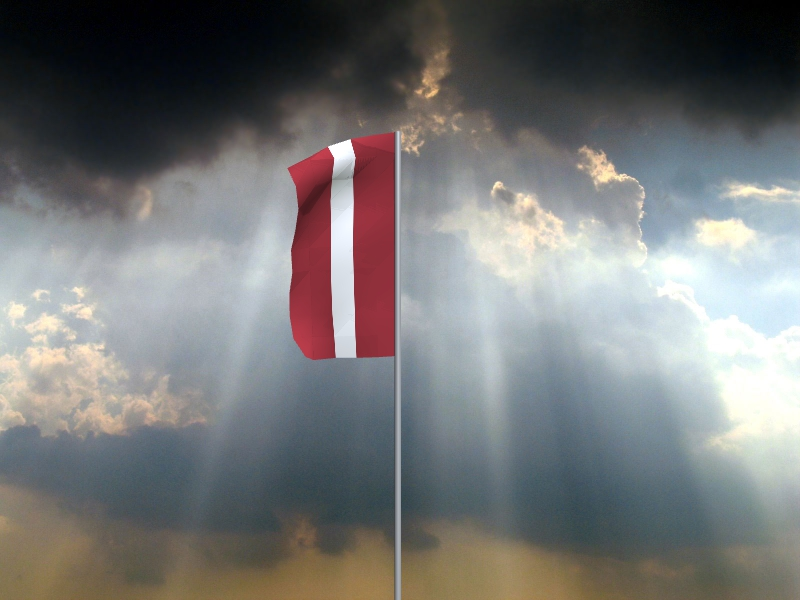lv: (286, 133, 396, 362)
